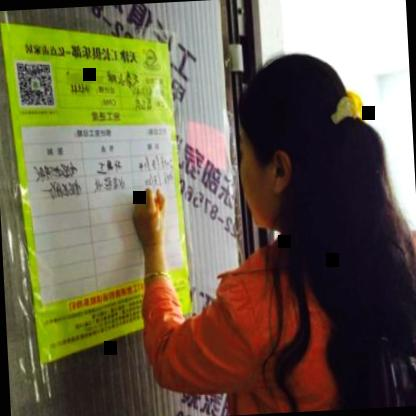head: (228, 46, 374, 262)
